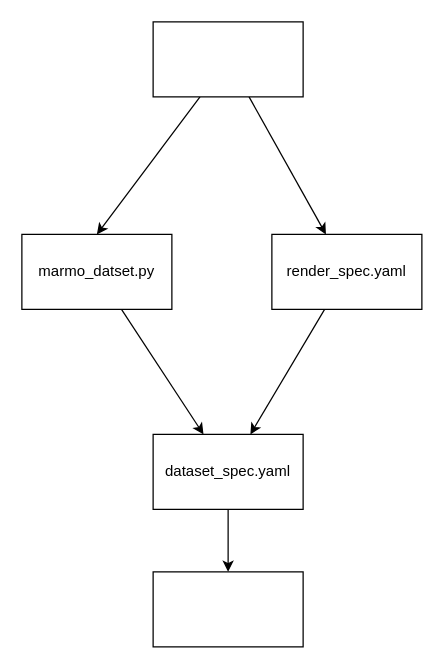
This 444x669 diagram has some shape labels left out. Here are the shapes that lost their labels. From the top down, the box of each, then its label:
(152, 21, 303, 97): render_blender.py
(152, 571, 303, 647): health_status.yaml
